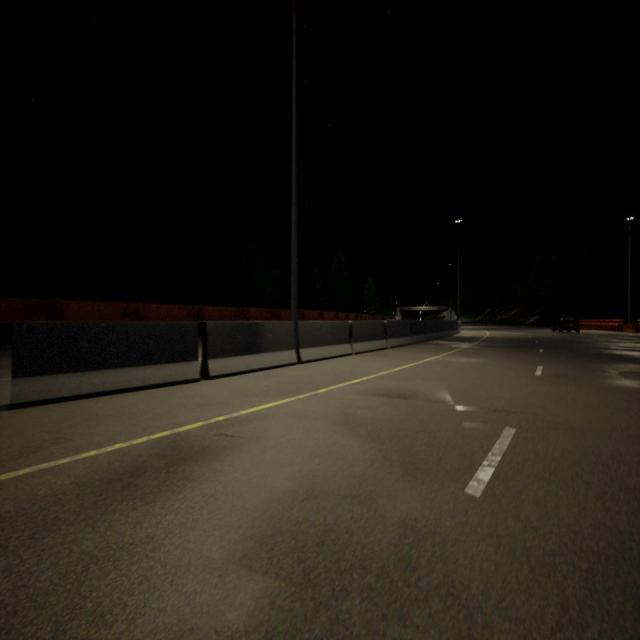Vehicle: (551, 315, 580, 334)
